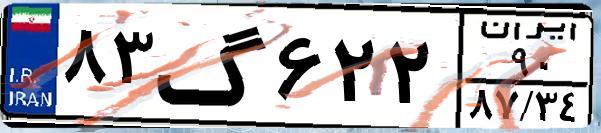0: (537, 27, 568, 80)
2: (385, 28, 445, 110), (330, 28, 385, 110)
3: (110, 28, 156, 98), (535, 70, 560, 125)
4: (560, 70, 590, 125)
6: (270, 28, 330, 110)
7: (495, 70, 520, 125)
8: (57, 26, 110, 100), (470, 70, 495, 125)
9: (508, 27, 537, 80)
گ: (156, 12, 270, 120)
